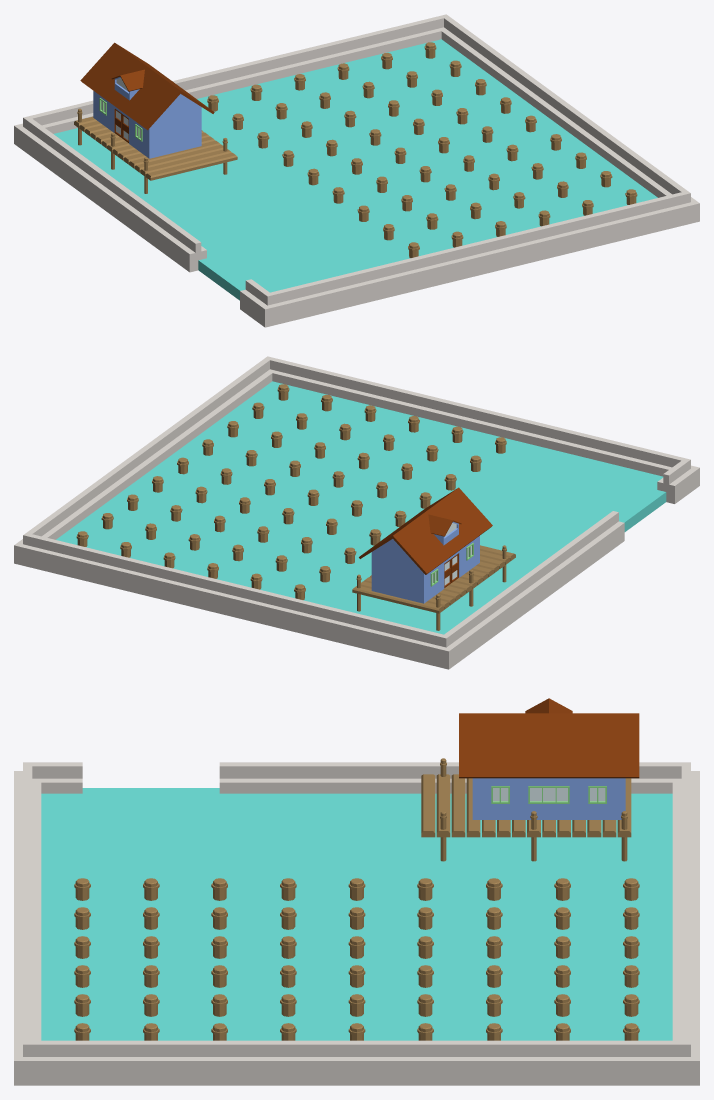
File: Oyster_farm.fbx
The picture shows the model from 3 angles, top to bottom: view 1: azimuth 30°, elevation 25°; view 2: azimuth 150°, elevation 25°; view 3: azimuth 270°, elevation 25°; orthographic projection. The views are drawn at different scales.
Visible parts, largest first — view 1: mesh_oyster_farm; view 2: mesh_oyster_farm; view 3: mesh_oyster_farm.
Part boxes in pixels (x1,y1,x2,y2): mesh_oyster_farm: [14, 14, 699, 327]; mesh_oyster_farm: [14, 356, 699, 669]; mesh_oyster_farm: [14, 698, 699, 1085].
Size of the model in its own units: 5 by 1.08 by 5.
